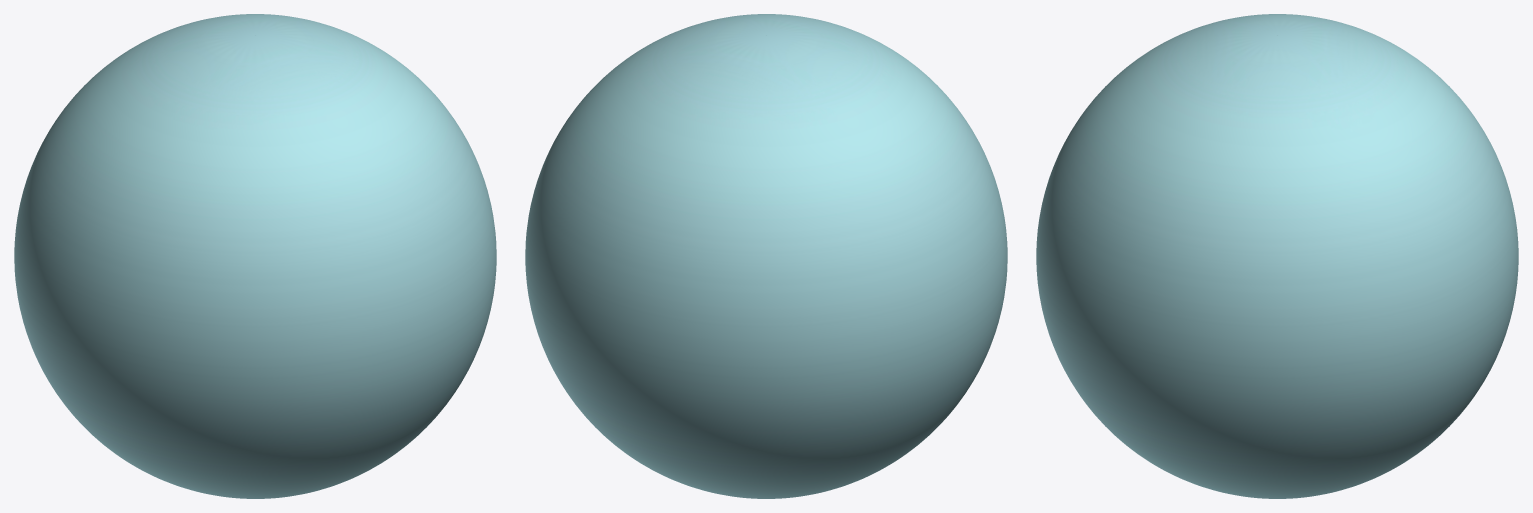
Rendered from uranus.glb.
3 views of the same model, side by side, from view 1: azimuth 30°, elevation 25°; view 2: azimuth 150°, elevation 25°; view 3: azimuth 270°, elevation 25° (orthographic).
Parts seen in each view (by area): view 1: Uranus; view 2: Uranus; view 3: Uranus.
Part boxes in pixels (box(x1,y1,x2,y2)): Uranus: box(14, 14, 496, 498); Uranus: box(525, 14, 1007, 498); Uranus: box(1036, 14, 1518, 498).
Bounding box in the file's own units: 0.4936 × 0.4988 × 0.4936.
1 material, 1 textured.
